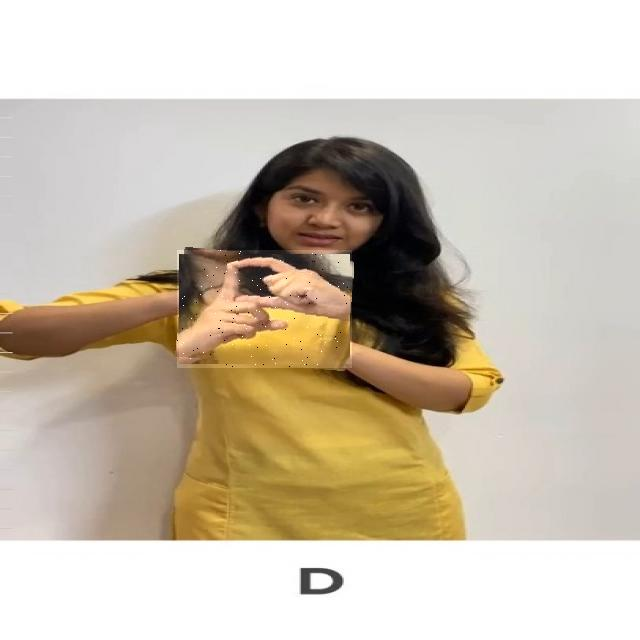D: (177, 250, 352, 368)
